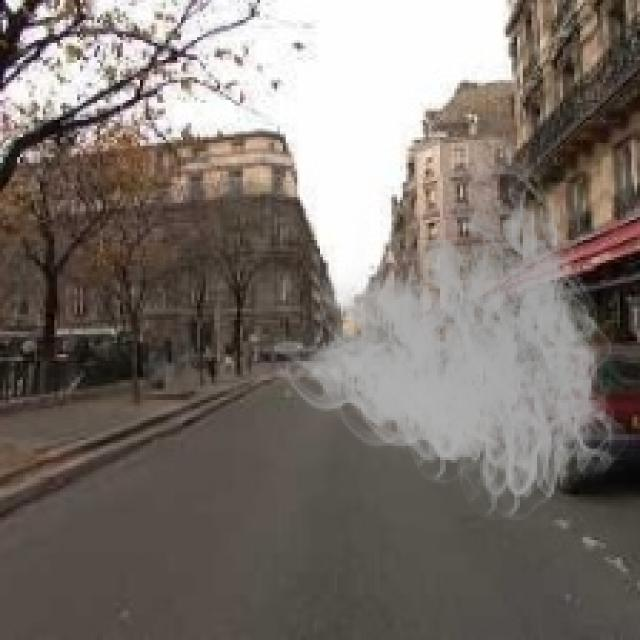smoke: (274, 154, 637, 532)
